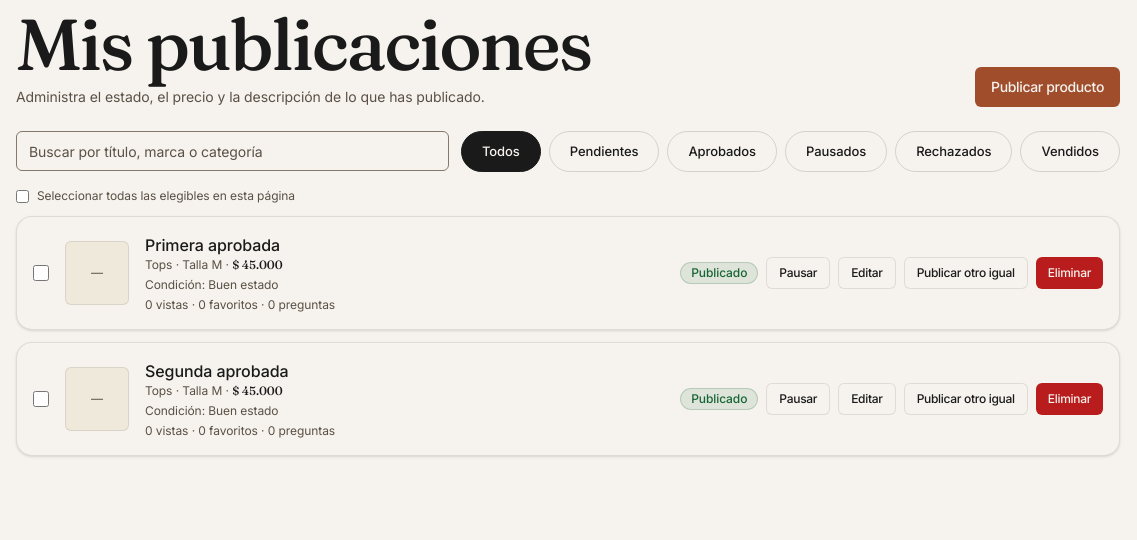
Scenario: MisProductosPage › pausa en lote las publicaciones aprobadas seleccionadas
This screenshot has width=1137, height=540.
Expected: the element with test id "mine-product-p30" is shown, [16, 216, 1120, 330]
What coordinates should you click on to do the following:
click the checkbox named "seleccionar primera aprobada"
I would click on:
 (41, 273)
Its box is [33, 265, 49, 281].
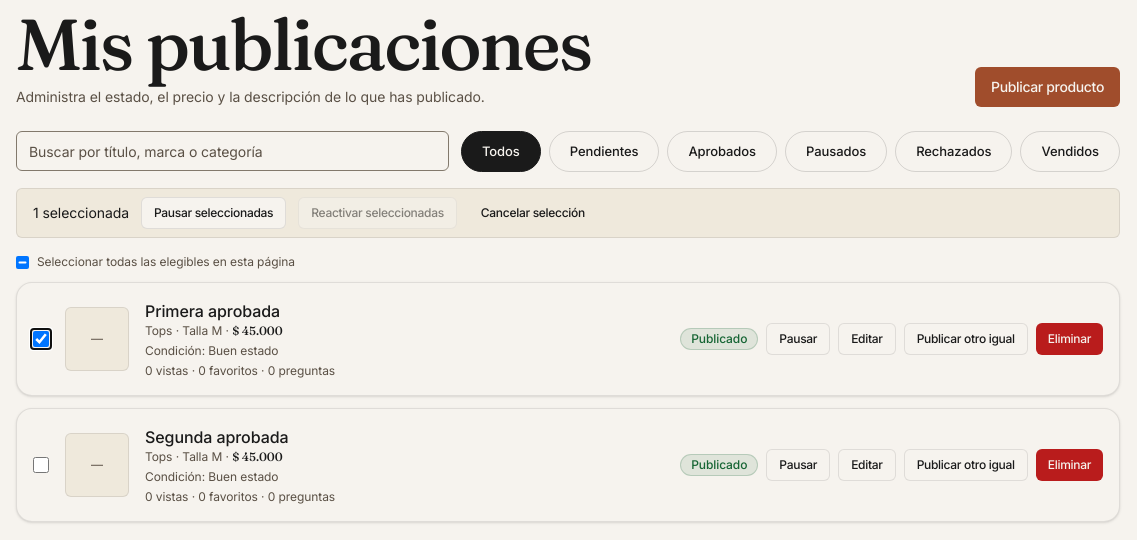
What coordinates should you click on to do the following:
click the checkbox named "seleccionar segunda aprobada"
I would click on:
 (41, 465)
Its box is [33, 457, 49, 473].
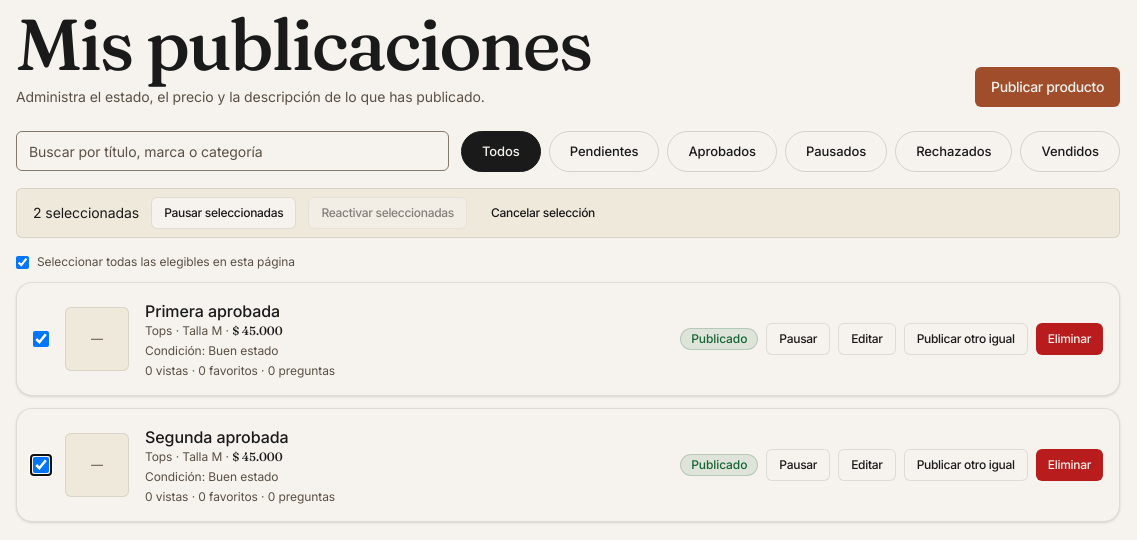
Now the text "2 seleccionadas" is shown, box [33, 203, 139, 223]
What coordinates should you click on to do the following:
click the button "Pausar seleccionadas"
I would click on:
 (224, 213)
Its box is [151, 197, 296, 229].
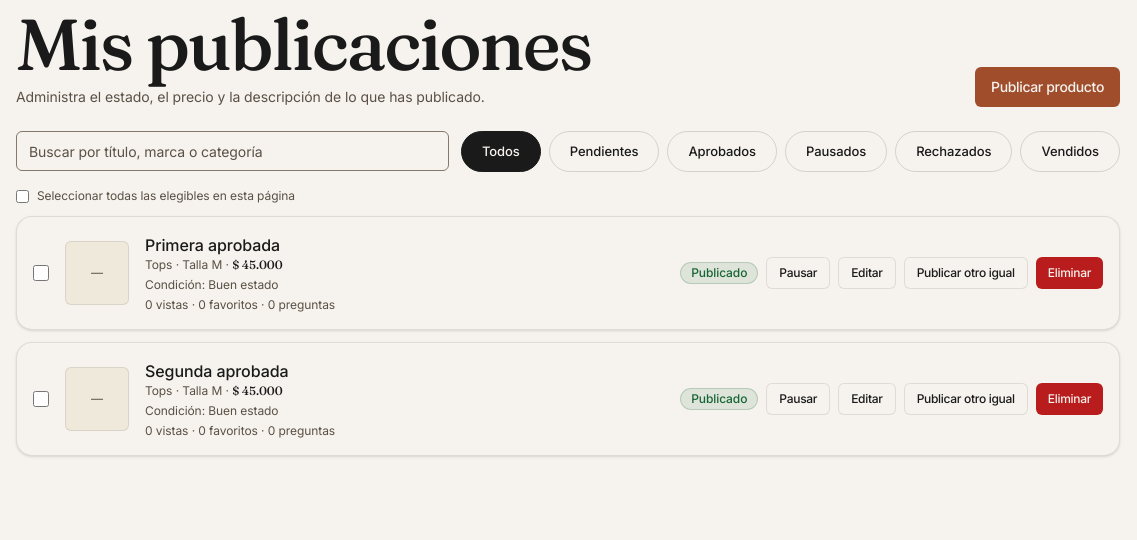
Now the text "seleccionadas" is gone
